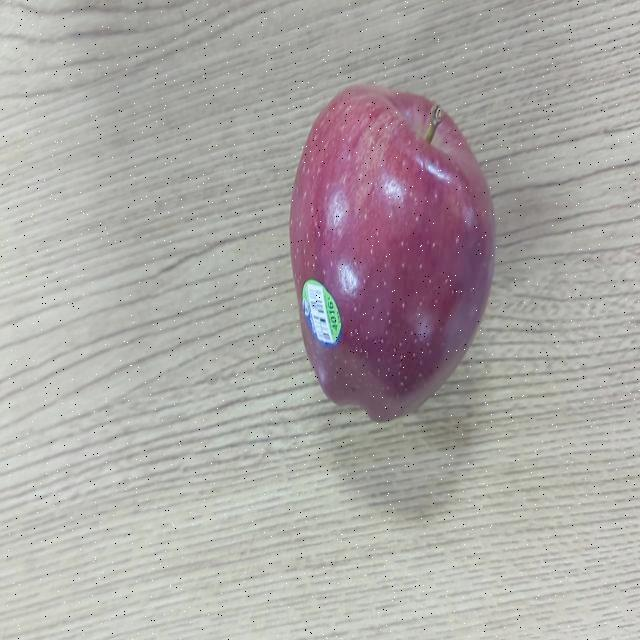Apel Merah: (284, 98, 498, 432)
